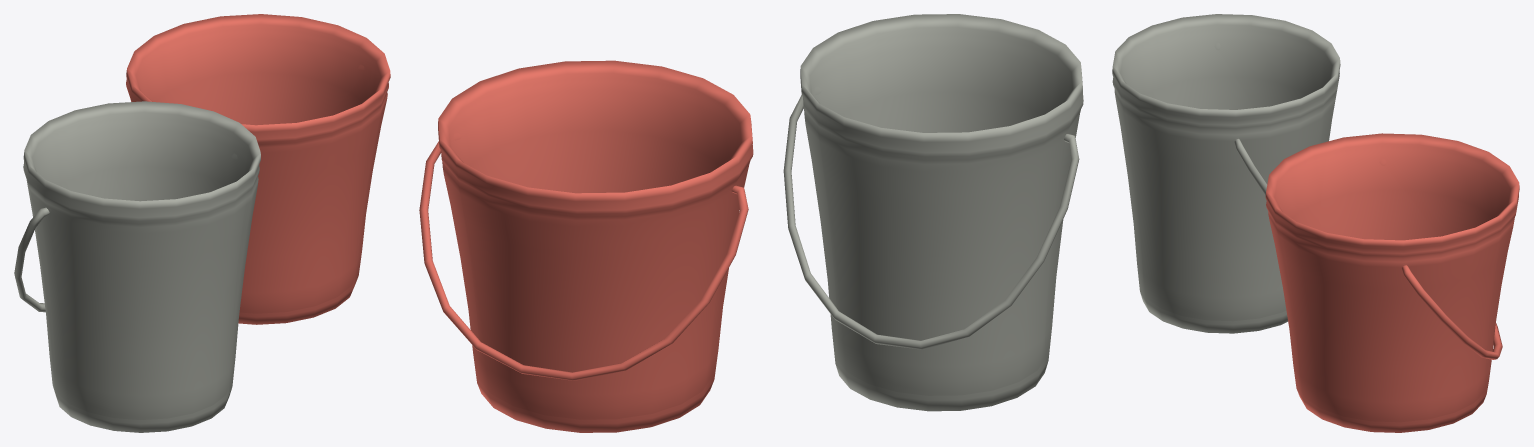
File: Buckets.fbx
The picture shows the model from 3 angles, left to right: view 1: azimuth 30°, elevation 25°; view 2: azimuth 150°, elevation 25°; view 3: azimuth 270°, elevation 25°; orthographic projection. The views are drawn at different scales.
Visible parts, largest first — view 1: Painting Bucket.002, Painting Bucket.001; view 2: Painting Bucket.001, Painting Bucket.002; view 3: Painting Bucket.001, Painting Bucket.002.
Boxes of the visible parts, bbox=[...] form: Painting Bucket.002: bbox=[14, 101, 260, 432]; Painting Bucket.001: bbox=[126, 14, 390, 324]; Painting Bucket.001: bbox=[419, 60, 753, 432]; Painting Bucket.002: bbox=[783, 14, 1083, 411]; Painting Bucket.001: bbox=[1265, 133, 1519, 432]; Painting Bucket.002: bbox=[1112, 14, 1340, 333].
Size of the model in its own units: 111 by 58.89 by 91.55.
